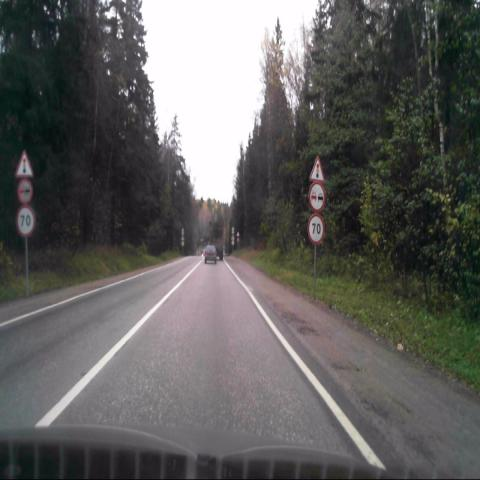1_8: (310, 155, 324, 182)
3_24: (16, 204, 34, 236)
